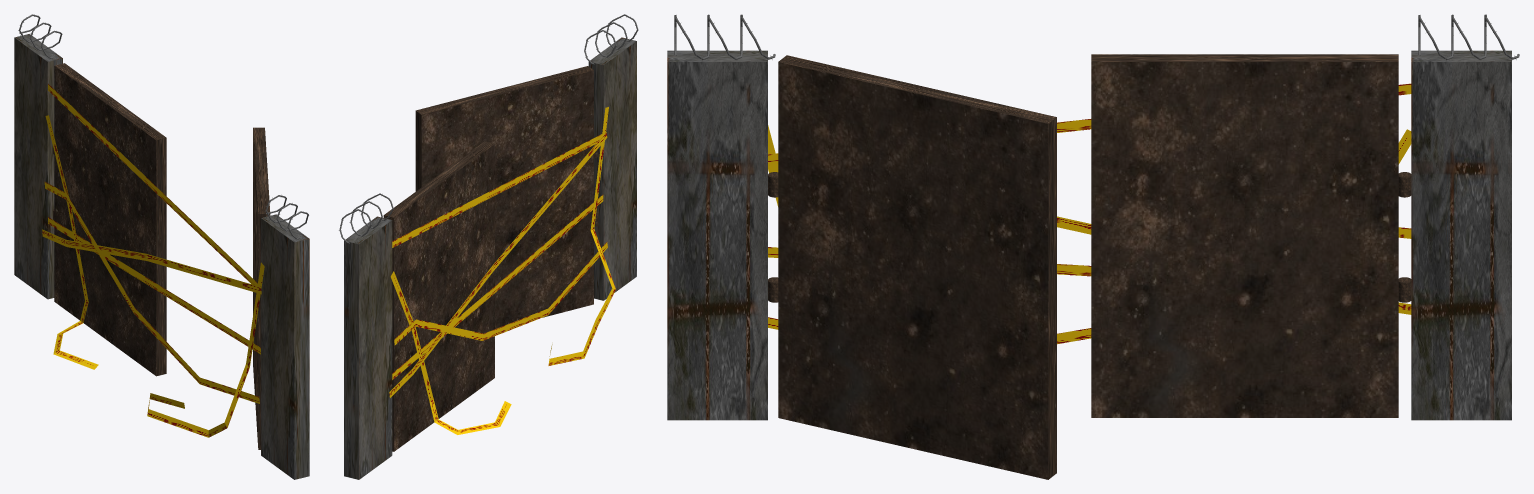
Rendered from Portao.fbx.
The picture shows the model from 3 angles, left to right: view 1: azimuth 30°, elevation 25°; view 2: azimuth 150°, elevation 25°; view 3: azimuth 270°, elevation 25°; orthographic projection. The views are drawn at different scales.
Parts seen in each view (by area): view 1: Cube.003, Cube, Cube.011, Cube.002, Cube.008, Cube.005, Cube.006, Cube.010, Cube.009, Cube.007, Cube.004, Cube.001; view 2: Cube.002, Cube.003, Cube.011, Cube, Cube.006, Cube.005, Cube.010, Cube.009, Cube.008, Cube.007, Cube.004, Cube.001; view 3: Cube.003, Cube.002, Cube.011, Cube.
Boxes of the visible parts, x1,y1,x2,y2 form: Cube.003: (54,63,166,376); Cube: (261,214,309,479); Cube.011: (14,34,62,299); Cube.002: (253,127,270,449); Cube.008: (147,262,264,437); Cube.005: (44,181,259,403); Cube.006: (42,229,261,294); Cube.010: (48,84,257,285); Cube.009: (48,217,260,354); Cube.007: (45,115,98,369); Cube.004: (19,14,62,58); Cube.001: (265,195,308,239); Cube.002: (415,66,593,328); Cube.003: (383,141,494,451); Cube.011: (344,216,392,479); Cube: (588,37,636,300); Cube.006: (389,132,607,397); Cube.005: (394,242,607,345); Cube.010: (392,134,602,247); Cube.009: (392,194,603,379); Cube.008: (548,107,615,365); Cube.007: (390,271,511,434); Cube.004: (339,193,393,243); Cube.001: (584,14,638,64); Cube.003: (1091,54,1398,417); Cube.002: (778,55,1056,479); Cube.011: (1411,50,1511,420); Cube: (667,50,767,420).
Size of the model in its own units: 672 by 1145 by 2213.
10 materials, 10 textured.
